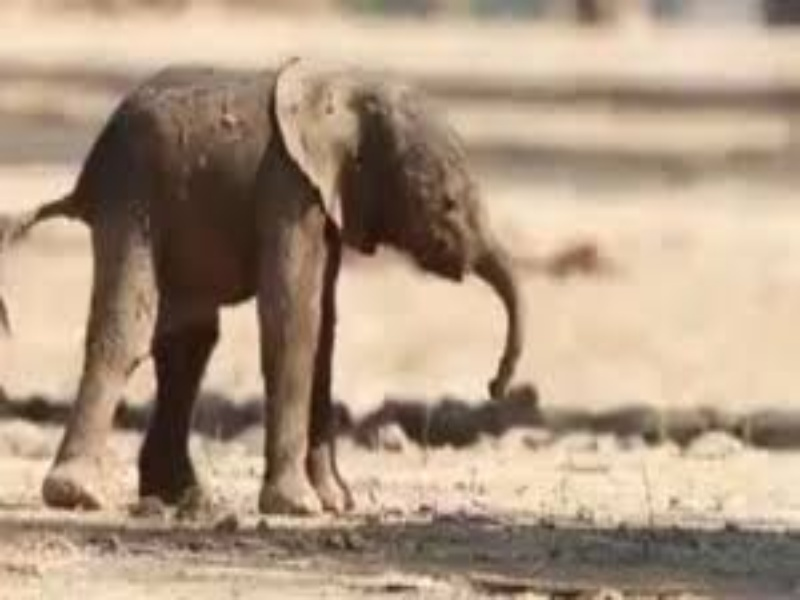elephant: (48, 8, 534, 511)
